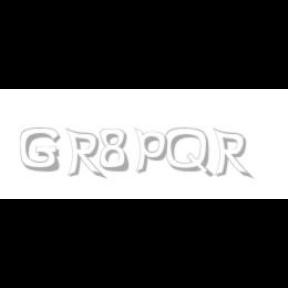8: (100, 128, 128, 172)
G: (20, 128, 60, 172)
Q: (165, 128, 211, 178)
R: (65, 128, 103, 180), (213, 128, 251, 180)
p: (134, 128, 172, 174)
